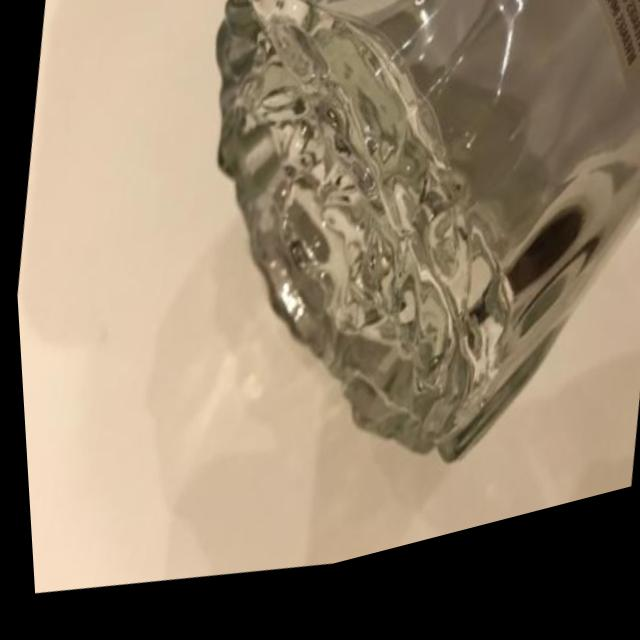glass: (105, 0, 640, 618)
